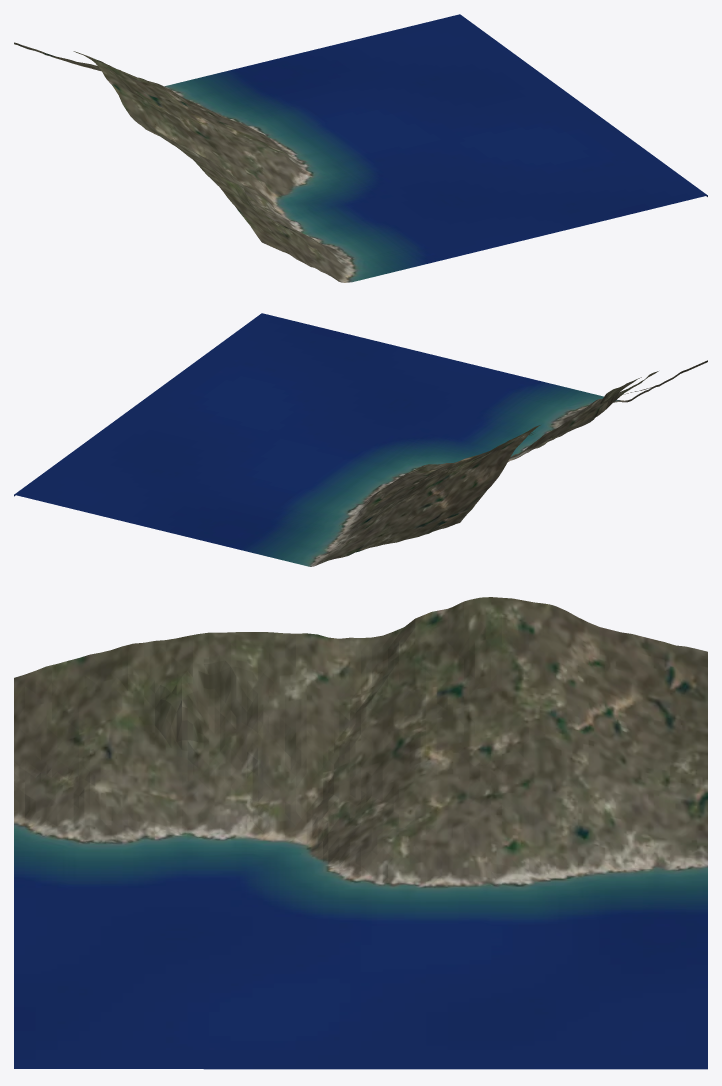
3 renders of one model, top to bottom at view 1: azimuth 30°, elevation 25°; view 2: azimuth 150°, elevation 25°; view 3: azimuth 270°, elevation 25°, orthographic. The views are drawn at different scales.
Bounding box in the file's own units: 250 × 65.12 × 241.
1 material, 1 textured.
